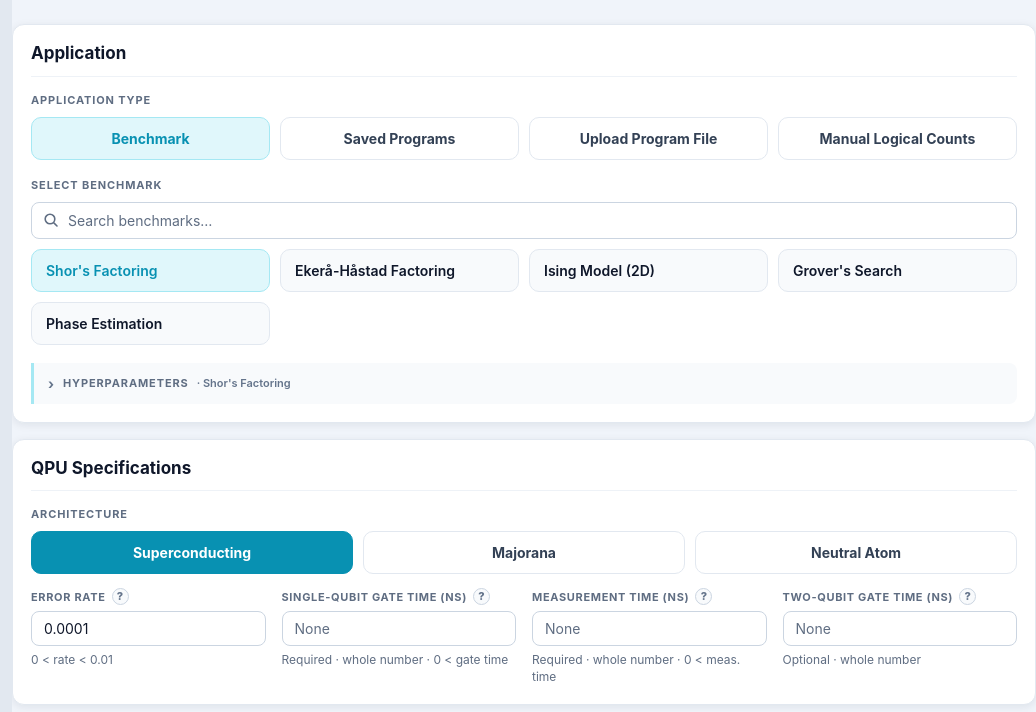
Test: Run-button validation gating › enables Run once the required times are filled
Type "50" into the field labelled "Single-Qubit Gate Time (ns)" at (399, 629), box [282,611,516,646]
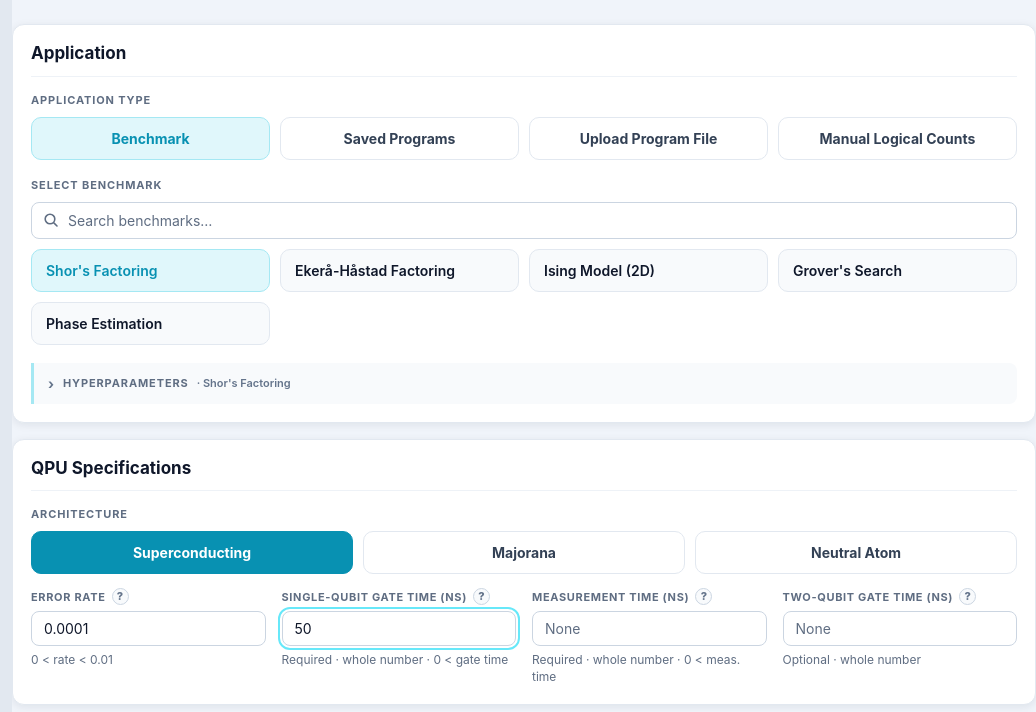
Type "100" into the field labelled "Measurement Time (ns)" at (649, 629), box [532,611,766,646]
(page scrolled)
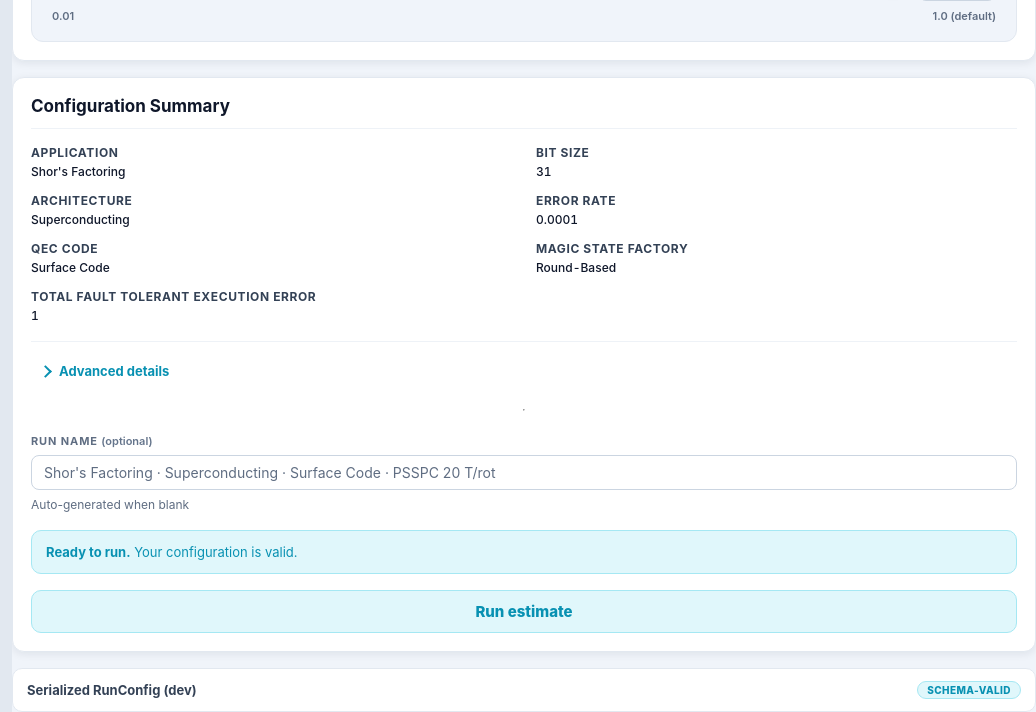
Check: the button "Run estimate" is enabled, box [31,590,1017,633]
